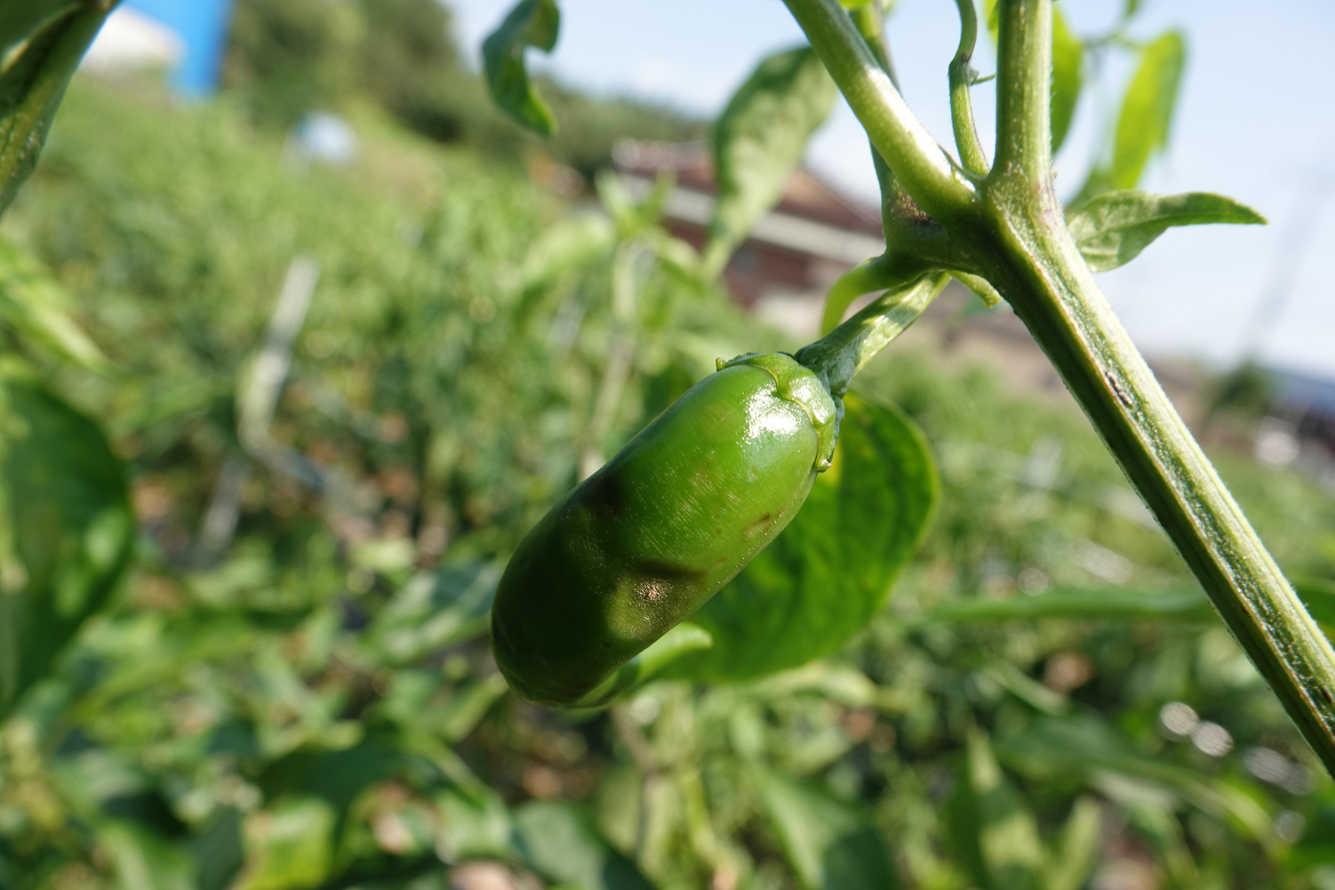Busuk Buah Antraknosa: (487, 349, 842, 713)
